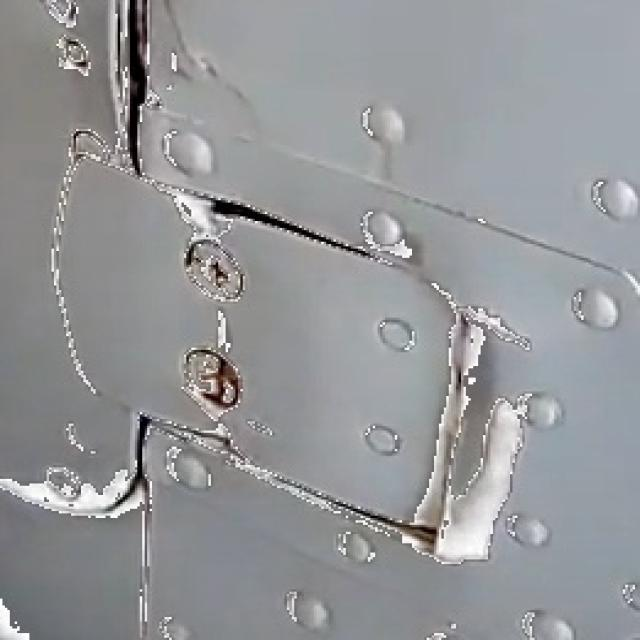crack: (209, 302, 248, 348)
